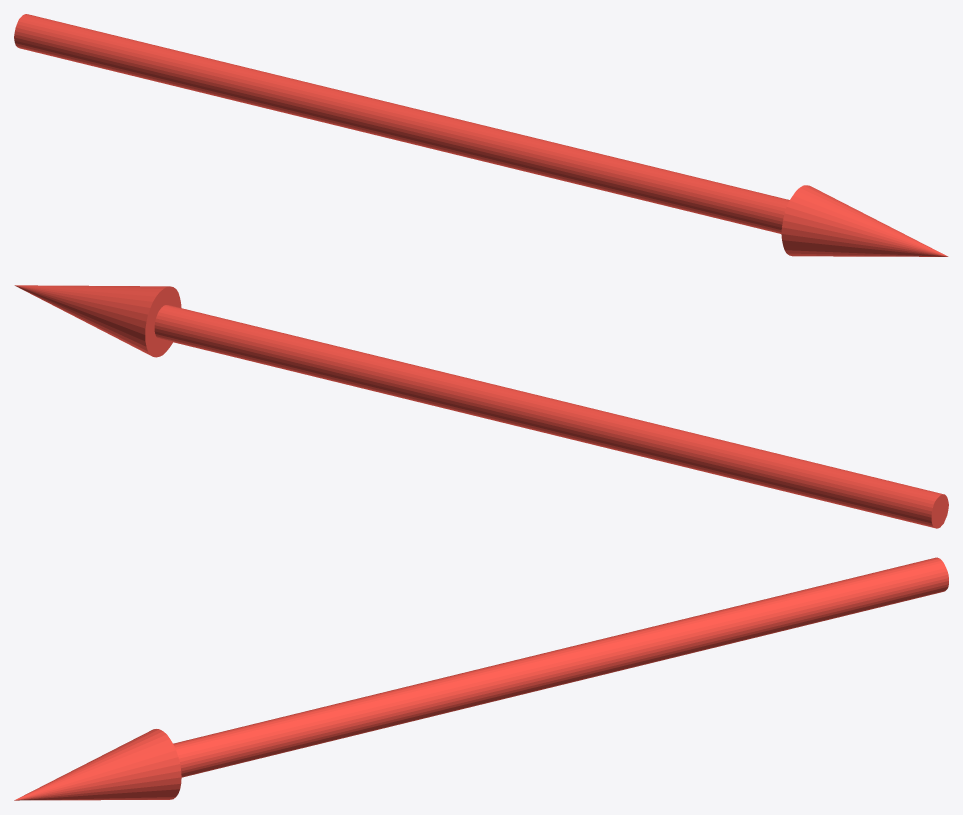
File: Axis 2 A_C6H6.gltf
3 renders of one model, top to bottom at view 1: azimuth 30°, elevation 25°; view 2: azimuth 210°, elevation 25°; view 3: azimuth 270°, elevation 25°, orthographic.
Visible parts, largest first — view 1: Eje_Cono.005; view 2: Eje_Cono.005; view 3: Eje_Cono.005.
Boxes of the visible parts, x1,y1,x2,y2 form: Eje_Cono.005: (14,14,948,256); Eje_Cono.005: (14,285,948,528); Eje_Cono.005: (14,557,948,800).
Size of the model in its own units: 1.14 by 0.1505 by 1.94.
